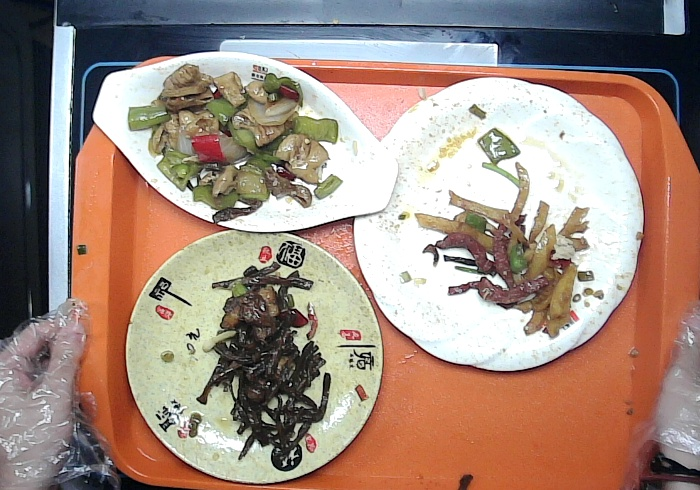NLDX-Bai_Zhe_Yuan_Pan: (355, 77, 647, 373)
NLDX-Fu_Zi_Yuan_Pan: (125, 230, 384, 485)
NLDX-Yu_Pan: (90, 50, 400, 235)
